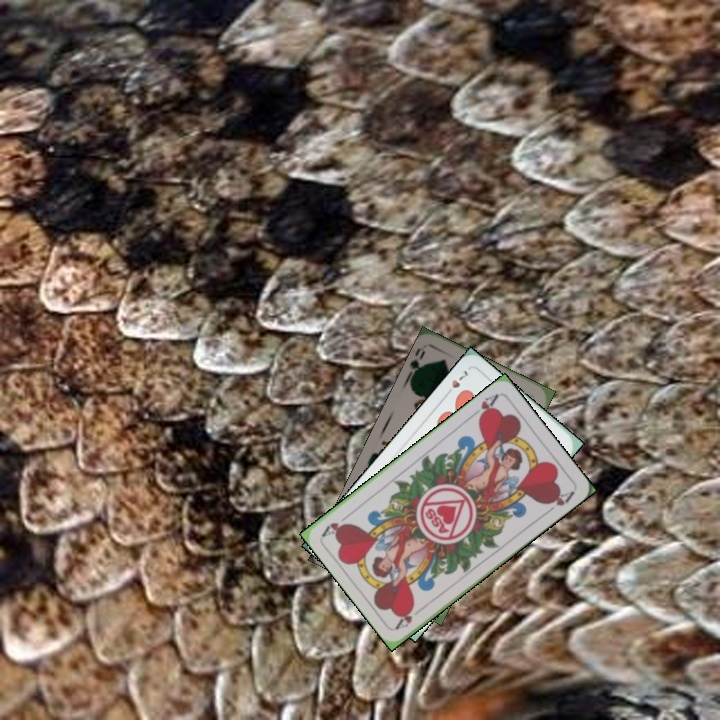GO: (403, 347, 430, 382)
H7: (441, 366, 471, 399)
HA: (467, 390, 501, 423), (392, 602, 427, 632)
